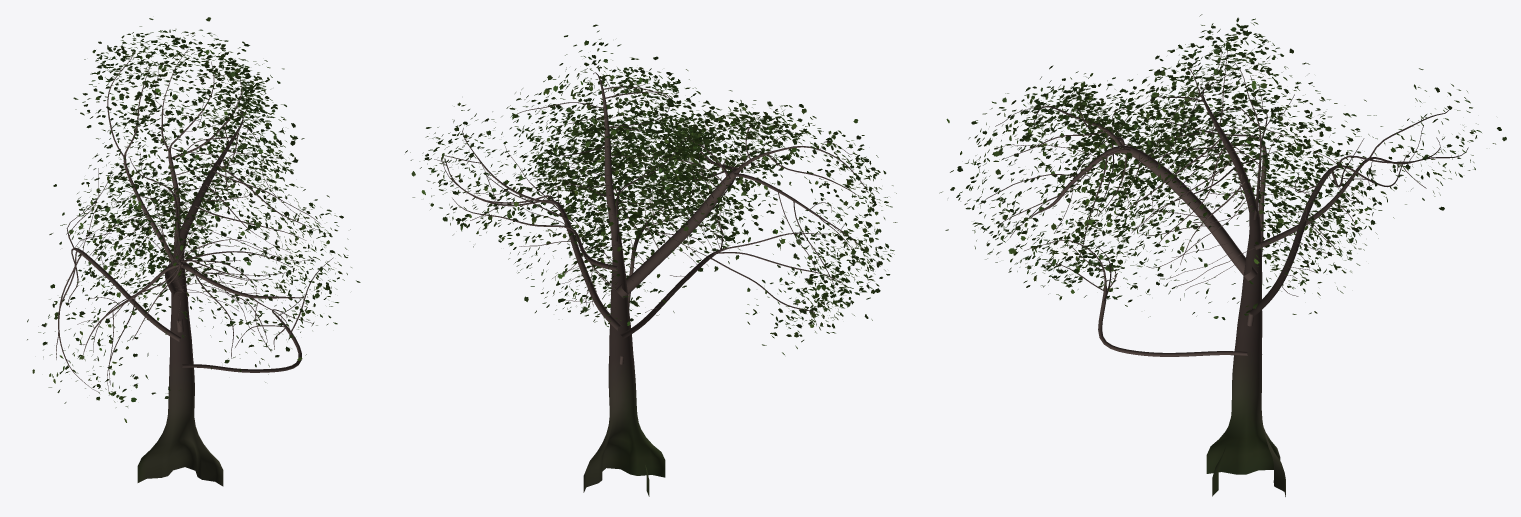
File: SM_Tree_sycamore_2.glb
The picture shows the model from 3 angles, left to right: view 1: azimuth 30°, elevation 25°; view 2: azimuth 150°, elevation 25°; view 3: azimuth 270°, elevation 25°; orthographic projection. The views are drawn at different scales.
Parts seen in each view (by area): view 1: SM_Tree_sycamore_2; view 2: SM_Tree_sycamore_2; view 3: SM_Tree_sycamore_2.
Boxes of the visible parts, x1,y1,x2,y2 form: SM_Tree_sycamore_2: (27, 17, 360, 486); SM_Tree_sycamore_2: (405, 24, 897, 496); SM_Tree_sycamore_2: (939, 14, 1506, 496).
Bounding box in the file's own units: 12.99 × 14.83 × 16.09.
